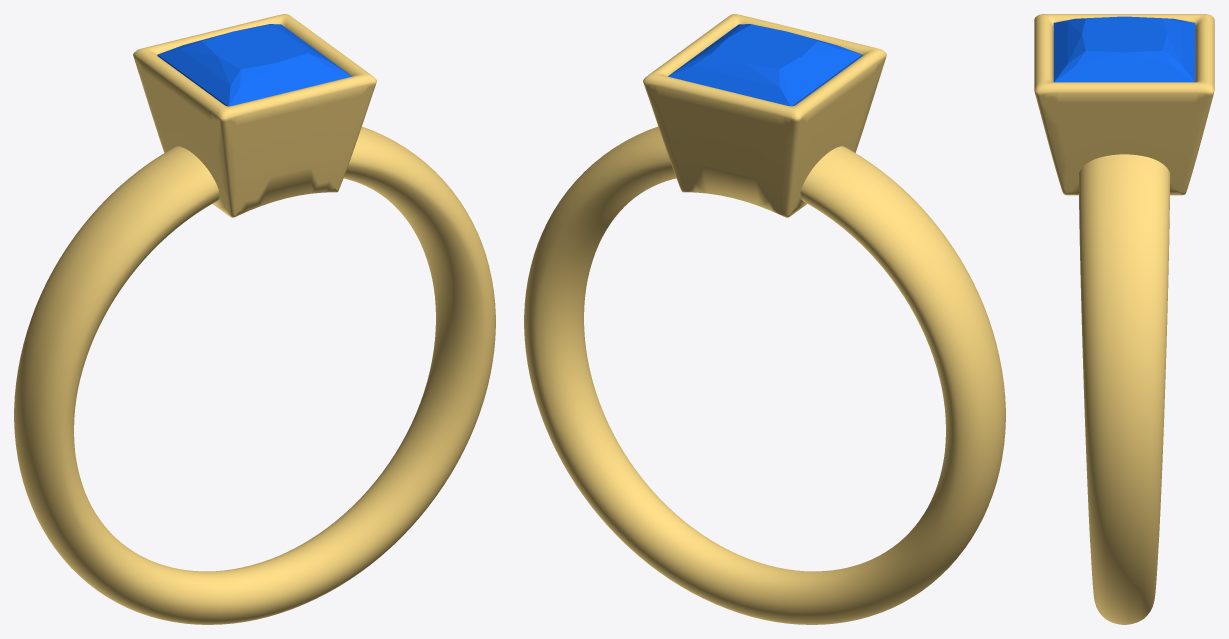
File: bluesapphire-princess-yellowgold-bezelset-taperedband-solitaire.glb
3 views of the same model, side by side, from view 1: azimuth 30°, elevation 25°; view 2: azimuth 150°, elevation 25°; view 3: azimuth 270°, elevation 25° (orthographic).
Visible parts, largest first — view 1: metal, stone; view 2: metal, stone; view 3: metal, stone.
Boxes of the visible parts, x1=… form: metal: x1=14, y1=14, x2=495, y2=624; stone: x1=157, y1=24, x2=351, y2=106; metal: x1=524, y1=14, x2=1005, y2=624; stone: x1=668, y1=24, x2=862, y2=106; metal: x1=1034, y1=14, x2=1214, y2=624; stone: x1=1053, y1=16, x2=1195, y2=82.
Size of the model in its own units: 20.5 by 23.85 by 6.89.
